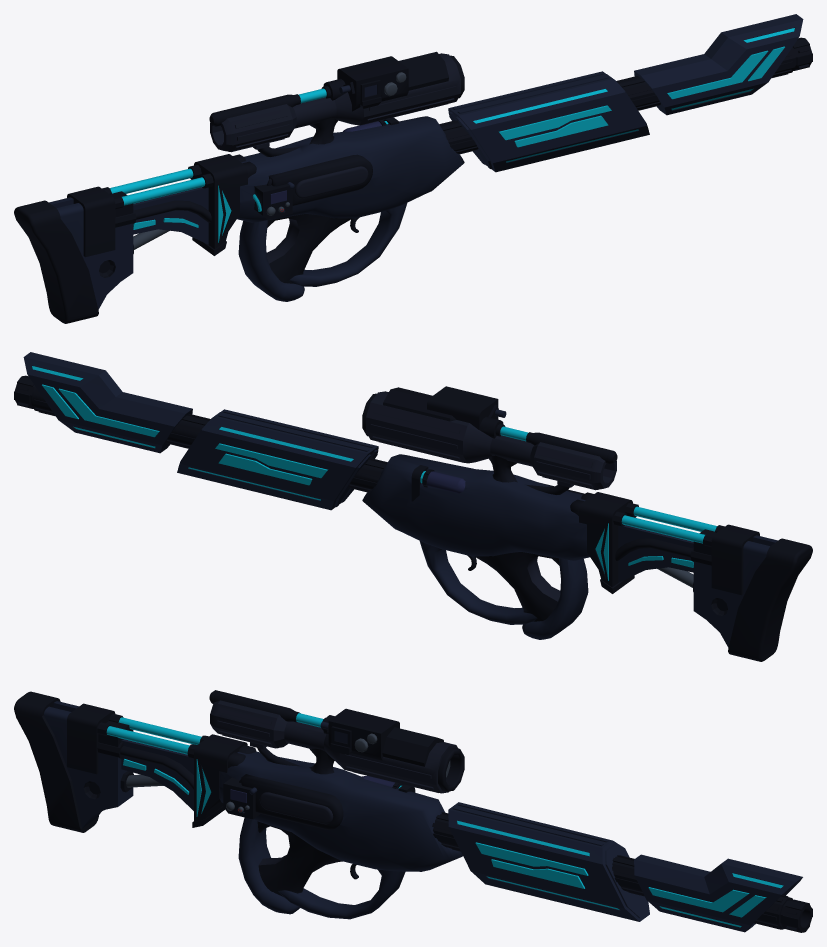
The model's file is Rifle prototonico.fbx.
The picture shows the model from 3 angles, top to bottom: view 1: azimuth 30°, elevation 25°; view 2: azimuth 150°, elevation 25°; view 3: azimuth 330°, elevation 25°; orthographic projection.
Visible parts, largest first — view 1: Rifle1, Group8, Group9, Group5, Group7; view 2: Rifle1, Group8, Group9, Group7; view 3: Rifle1, Group8, Group9, Group5, Group7.
Part boxes in pixels (x1,y1,x2,y2): Rifle1: (14, 14, 812, 323); Group8: (210, 53, 464, 152); Group9: (209, 51, 448, 126); Group5: (295, 166, 368, 198); Group7: (257, 117, 338, 156); Rifle1: (14, 352, 812, 661); Group8: (362, 391, 616, 490); Group9: (383, 386, 617, 464); Group7: (488, 455, 569, 494); Rifle1: (14, 691, 812, 932); Group8: (210, 700, 464, 793); Group9: (209, 690, 443, 766); Group5: (259, 792, 333, 824); Group7: (257, 747, 334, 774).
Bounding box in the file's own units: 6367 × 1656 × 510.
